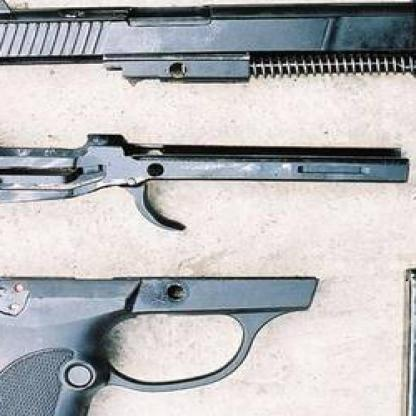gun: (0, 147, 410, 415)
